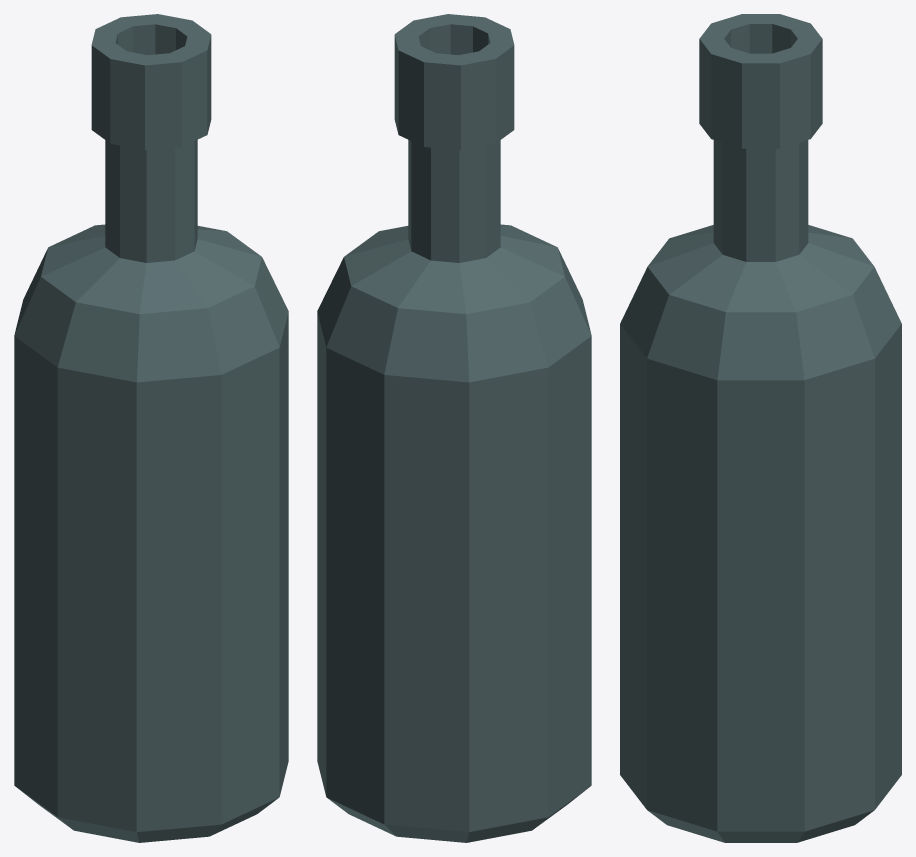
Rendered from bottle.fbx.
The picture shows the model from 3 angles, left to right: view 1: azimuth 30°, elevation 25°; view 2: azimuth 150°, elevation 25°; view 3: azimuth 270°, elevation 25°; orthographic projection.
Visible parts, largest first — view 1: bottle_01; view 2: bottle_01; view 3: bottle_01.
Boxes of the visible parts, bbox=[...] form: bottle_01: bbox=[14, 14, 288, 842]; bottle_01: bbox=[317, 14, 591, 842]; bottle_01: bbox=[620, 14, 901, 842].
Size of the model in its own units: 21.41 by 66.79 by 22.51.
